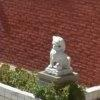Statue: (33, 30, 74, 80)
